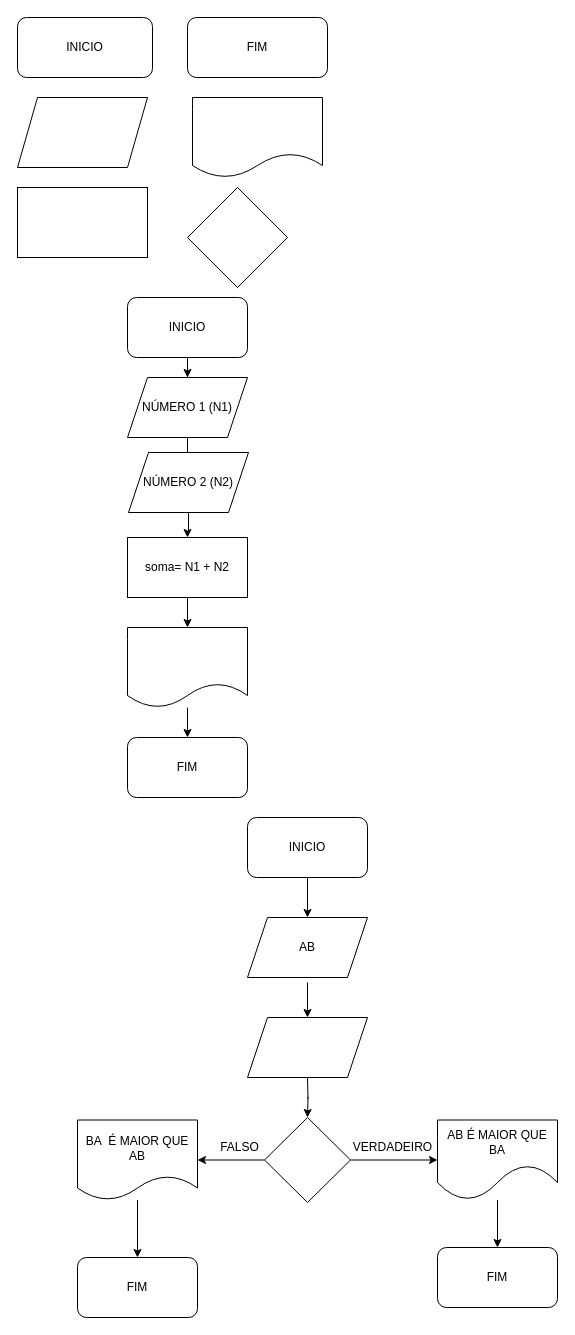
This 575x1335 diagram has some shape labels left out. Each missing label, with the centre of its shape:
"AB > BA" goes at point (307, 1159).
"BA" goes at point (307, 1047).
"DECISÃO" goes at point (237, 237).
"ENTRADA" goes at point (82, 132).
"PROCESSAMENTO" goes at point (82, 222).
"SAIDA" goes at point (257, 137).
"SOMA" goes at point (187, 667).
